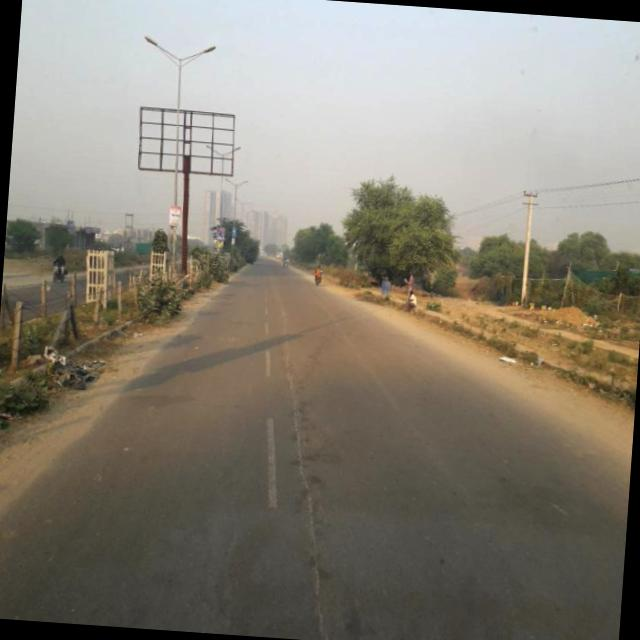pothole: (255, 298, 348, 638)
